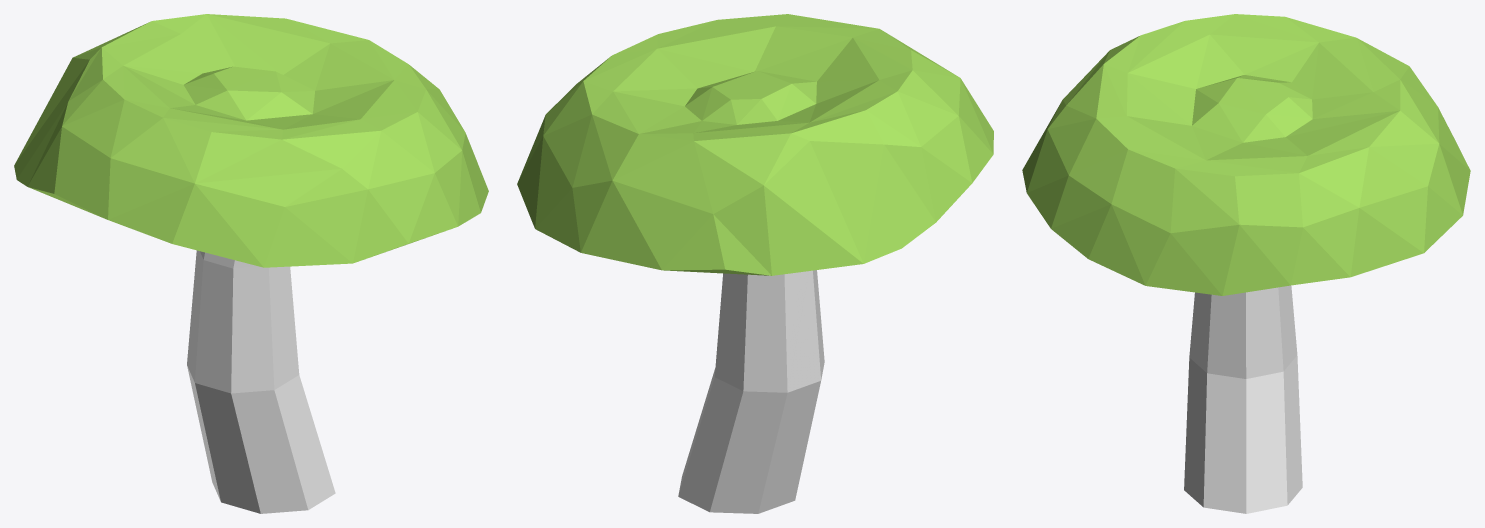
File: Mushroom 03.fbx
3 views of the same model, side by side, from view 1: azimuth 30°, elevation 25°; view 2: azimuth 150°, elevation 25°; view 3: azimuth 270°, elevation 25° (orthographic). The views are drawn at different scales.
Visible parts, largest first — view 1: Mushroom 03; view 2: Mushroom 03; view 3: Mushroom 03.
Part boxes in pixels (<box>): Mushroom 03: <box>14,14,488,513</box>; Mushroom 03: <box>517,14,993,513</box>; Mushroom 03: <box>1022,14,1470,513</box>.
Size of the model in its own units: 28.56 by 28.53 by 28.68.
